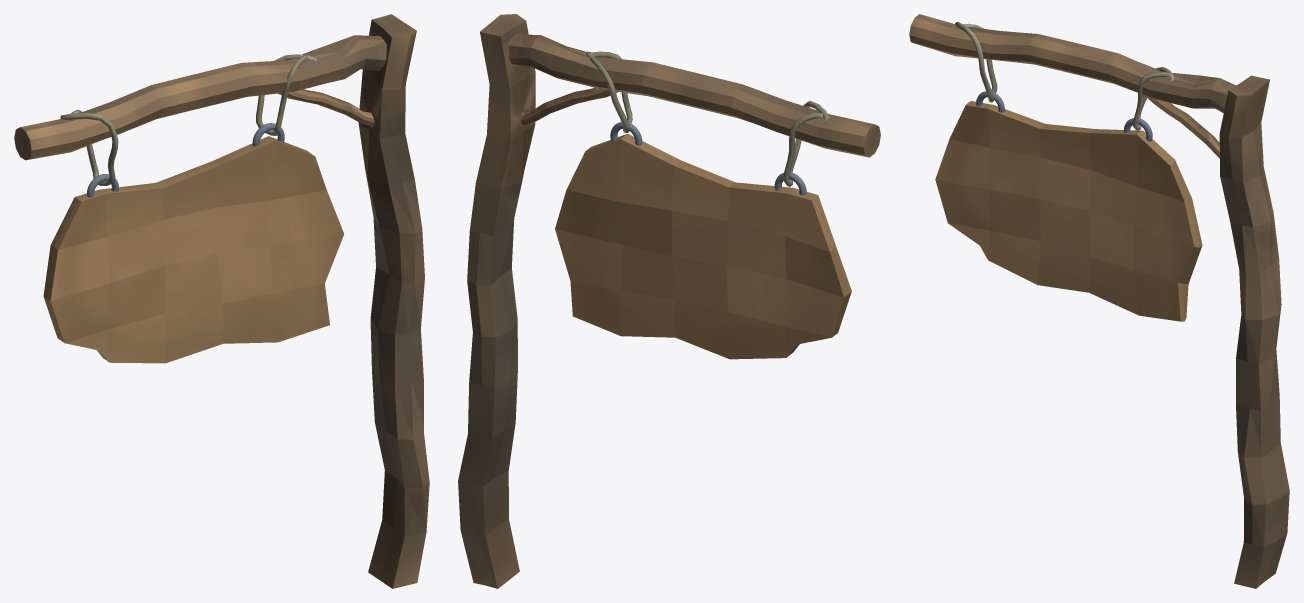
File: WoodenScoreSign.fbx
3 renders of one model, left to right at view 1: azimuth 30°, elevation 25°; view 2: azimuth 150°, elevation 25°; view 3: azimuth 330°, elevation 25°, orthographic. The views are drawn at different scales.
Visible parts, largest first — view 1: Board, Stand, Rope.001; view 2: Board, Stand, Rope.001; view 3: Board, Stand, Rope.001.
Part boxes in pixels (x1,y1,x2,y2): Board: [43, 123, 343, 363]; Stand: [14, 14, 429, 588]; Rope.001: [60, 54, 316, 185]; Board: [555, 122, 851, 359]; Stand: [458, 14, 880, 588]; Rope.001: [586, 51, 829, 186]; Board: [935, 91, 1202, 321]; Stand: [909, 14, 1289, 588]; Rope.001: [955, 22, 1174, 130].
Size of the model in its own units: 607 by 798 by 86.16.
